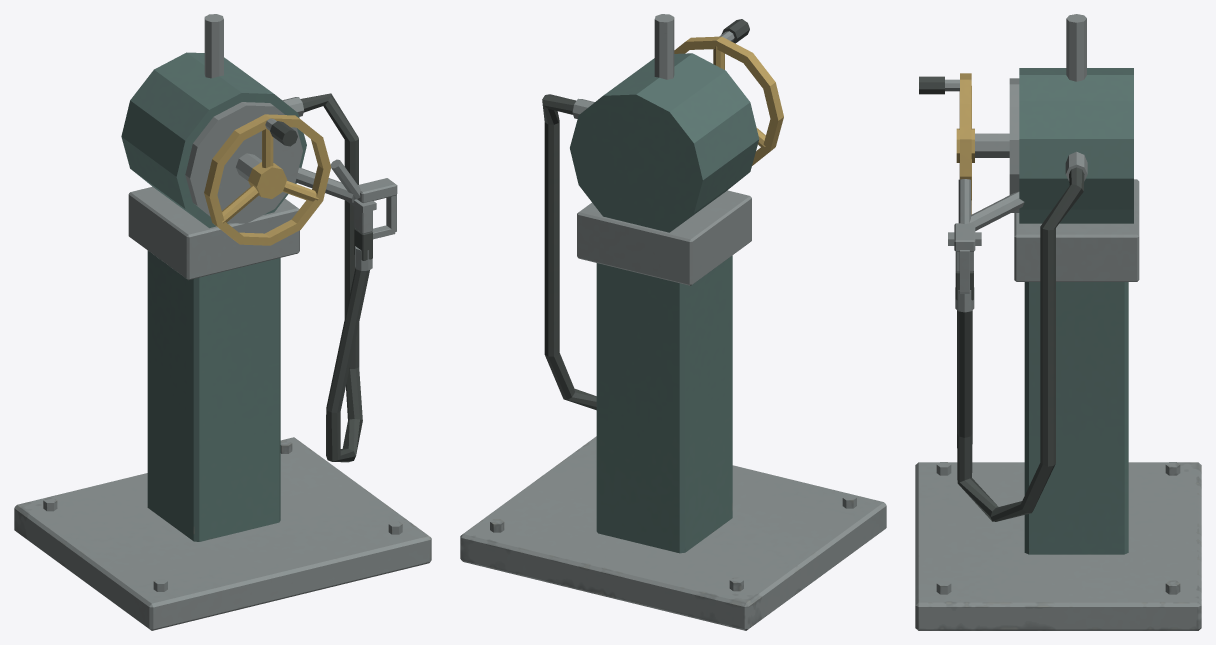
File: industry_fuel_pump_manual.glb
3 renders of one model, left to right at view 1: azimuth 30°, elevation 25°; view 2: azimuth 150°, elevation 25°; view 3: azimuth 270°, elevation 25°, orthographic. The views are drawn at different scales.
Parts seen in each view (by area): view 1: FuelPump; view 2: FuelPump; view 3: FuelPump.
Boxes of the visible parts, x1,y1,x2,y2 form: FuelPump: (14,14,431,630); FuelPump: (460,14,886,630); FuelPump: (915,14,1201,630).
Size of what is drawn, in the model's own units: 0.65 by 1.15 by 0.55.
1 material, 1 textured.
